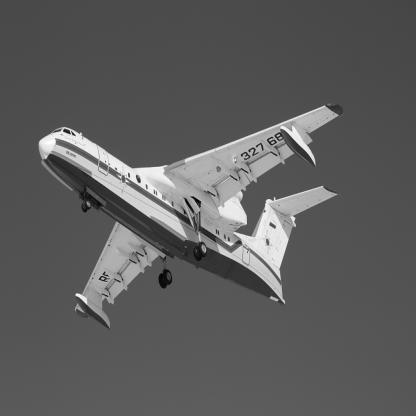Be200: (39, 104, 346, 332)
